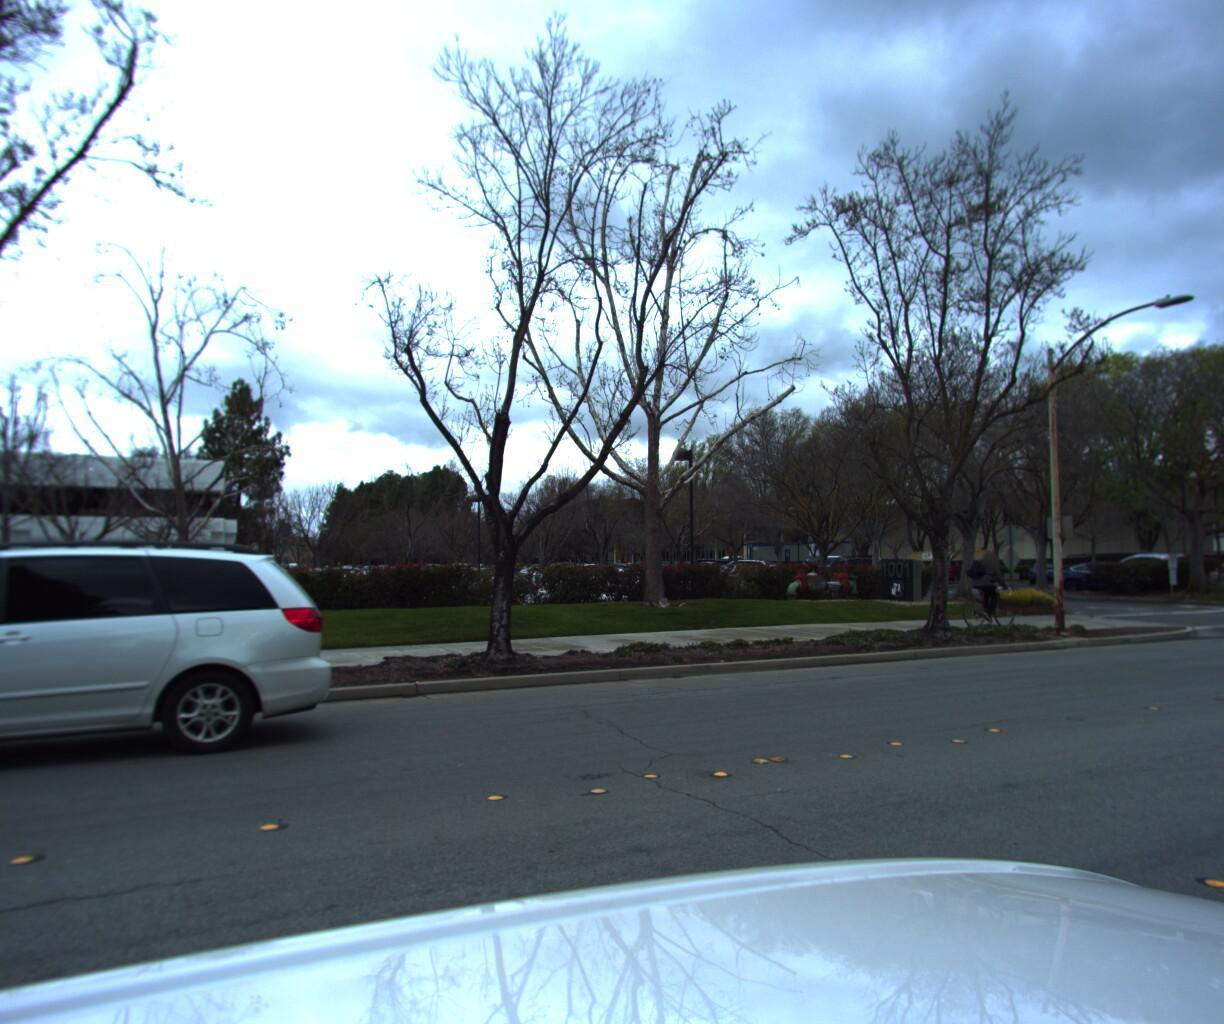bicycle: (941, 553, 1020, 629)
car: (0, 543, 324, 839)
